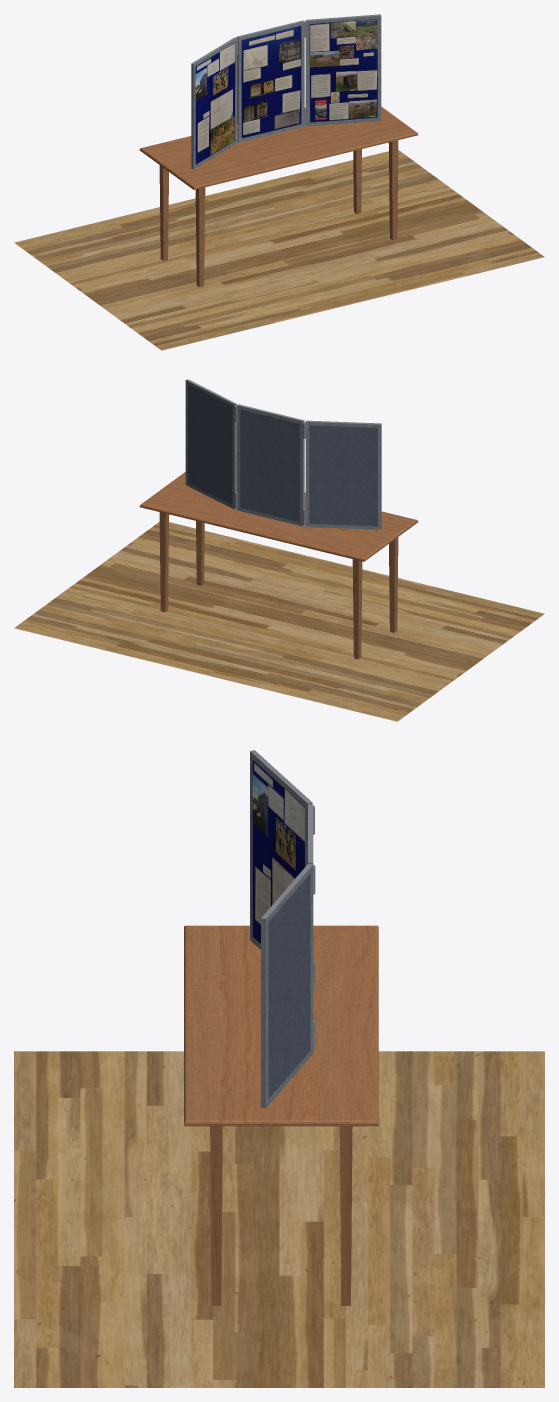
Rendered from Display 1.obj.
The picture shows the model from 3 angles, top to bottom: view 1: azimuth 30°, elevation 25°; view 2: azimuth 150°, elevation 25°; view 3: azimuth 270°, elevation 25°; orthographic projection. The views are drawn at different scales.
Parts seen in each view (by area): view 1: Plane_Plane.002, Display_Board_Plane, Table_Plane.001; view 2: Plane_Plane.002, Display_Board_Plane, Table_Plane.001; view 3: Plane_Plane.002, Table_Plane.001, Display_Board_Plane.
Boxes of the visible parts, x1,y1,x2,y2 form: Plane_Plane.002: [14, 150, 544, 350]; Display_Board_Plane: [191, 14, 381, 169]; Table_Plane.001: [139, 106, 418, 287]; Plane_Plane.002: [14, 522, 544, 721]; Display_Board_Plane: [185, 379, 381, 529]; Table_Plane.001: [139, 472, 418, 659]; Plane_Plane.002: [14, 1051, 544, 1387]; Table_Plane.001: [184, 925, 378, 1305]; Display_Board_Plane: [250, 750, 313, 1108].
Bounding box in the file's own units: 15 × 8.02 × 10.
7 materials, 7 textured.
